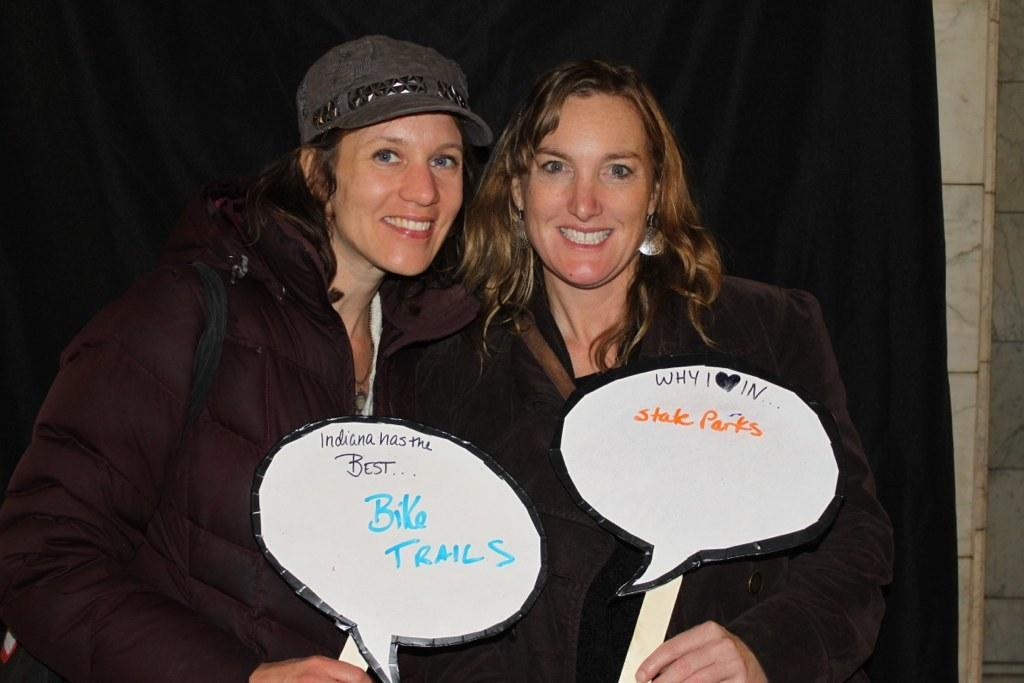Hat: (294, 36, 488, 146)
